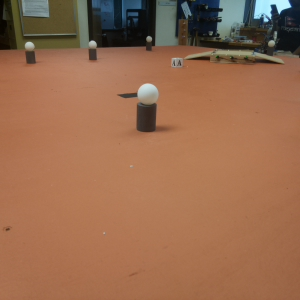obstacle: (137, 83, 160, 132), (83, 39, 99, 61), (24, 41, 37, 64), (142, 35, 154, 50), (265, 40, 276, 53)
side: (213, 54, 254, 67)
slope: (256, 54, 285, 66), (184, 52, 211, 64)
